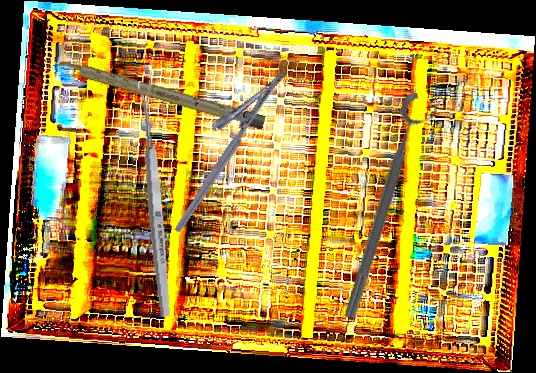Fixation Ring: (338, 90, 442, 325)
Needle Holder: (151, 52, 290, 234)
Scalpel Handle: (52, 56, 266, 130)
Surgical Spoon: (136, 79, 174, 318)
